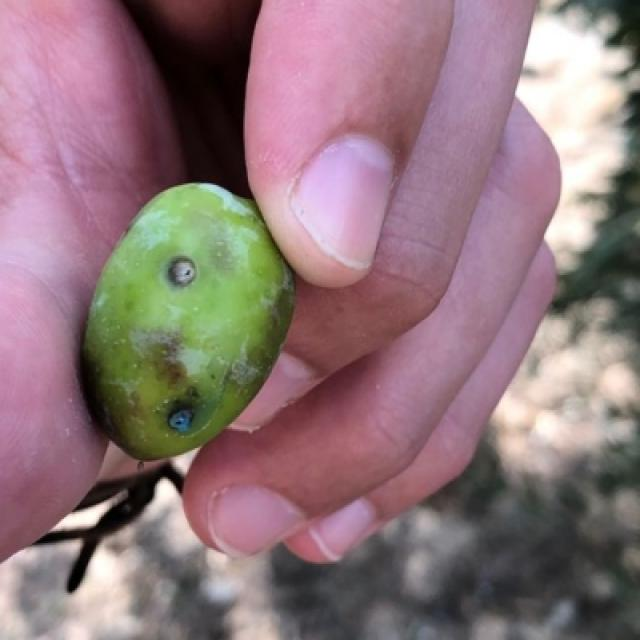Olive Fruit Fly: (82, 183, 294, 458)
